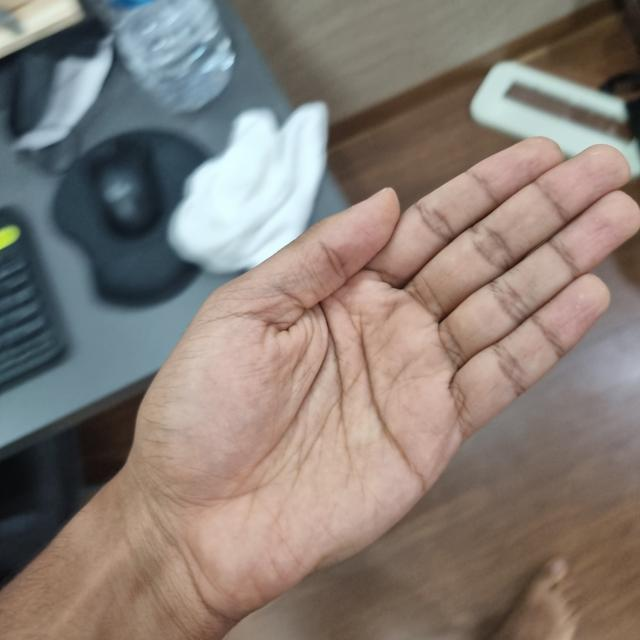Paper: (118, 136, 638, 606)
